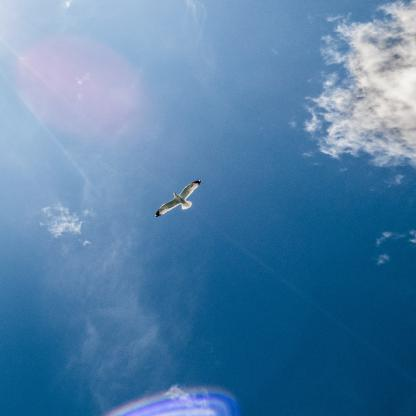bird: (154, 180, 203, 218)
